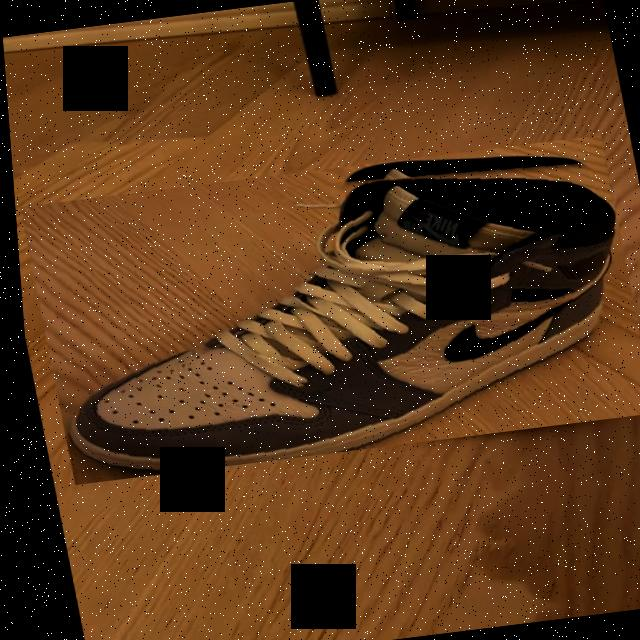shoe: (13, 134, 640, 484)
